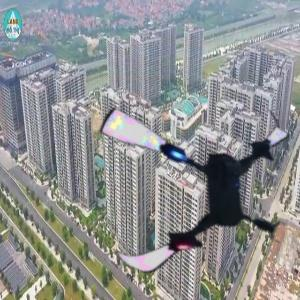drone: (81, 81, 300, 300)
